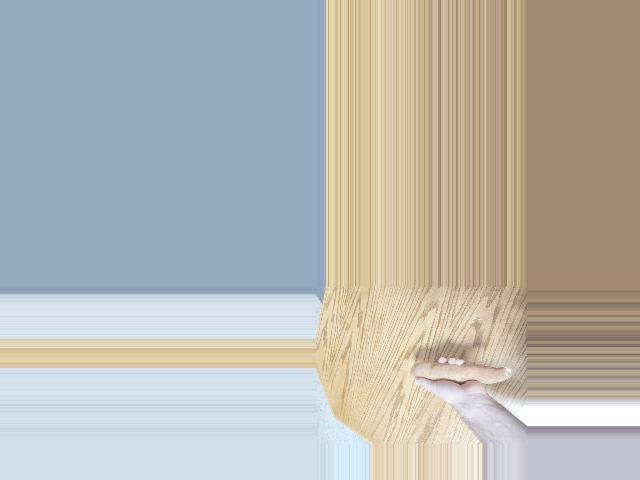sweet_potato: (403, 357, 513, 390)
